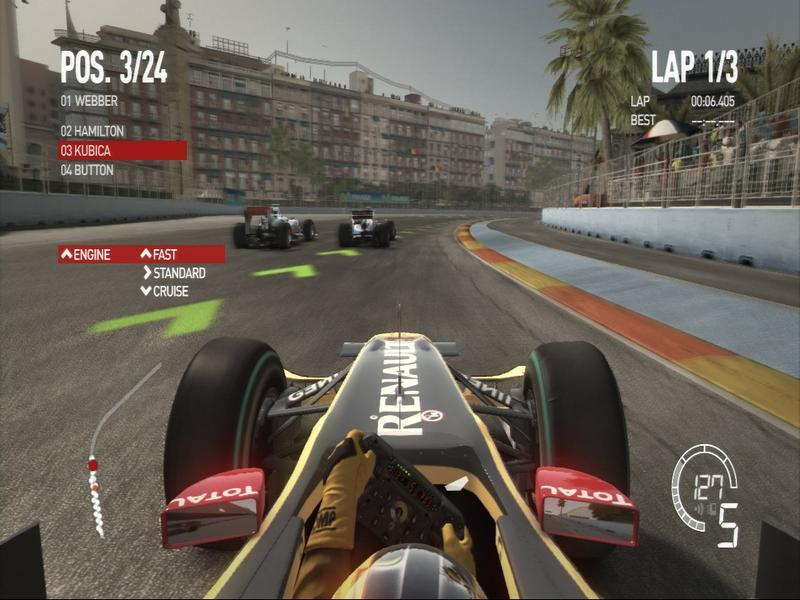f1: (127, 321, 682, 600), (236, 189, 317, 254), (337, 198, 401, 248)
